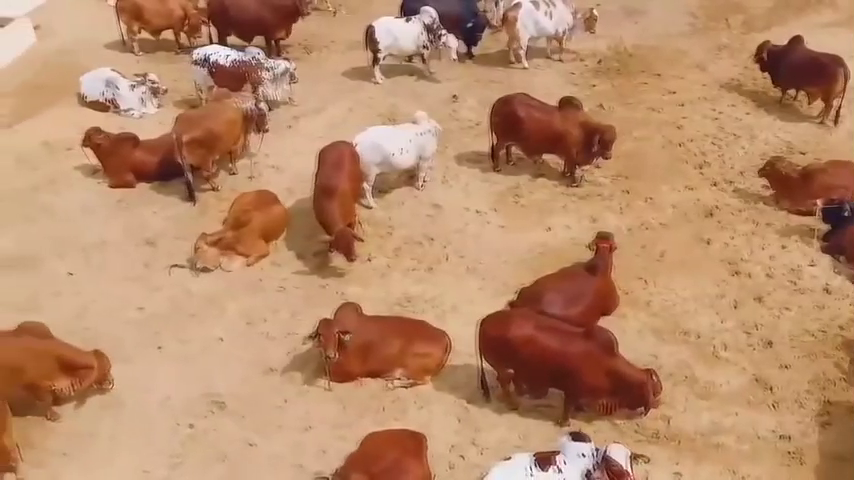bo: (473, 299, 670, 428), (303, 291, 452, 393), (508, 217, 636, 335), (480, 82, 623, 185), (4, 313, 120, 434), (169, 83, 278, 204), (181, 186, 298, 282), (465, 422, 656, 480), (740, 28, 846, 127), (300, 129, 369, 274), (346, 105, 442, 207), (69, 116, 178, 194), (361, 5, 463, 87), (490, 1, 611, 70), (185, 43, 300, 115), (61, 57, 176, 125), (202, 3, 324, 59), (762, 151, 853, 226), (105, 1, 208, 65), (320, 420, 437, 476), (396, 2, 493, 60), (804, 197, 850, 267)
